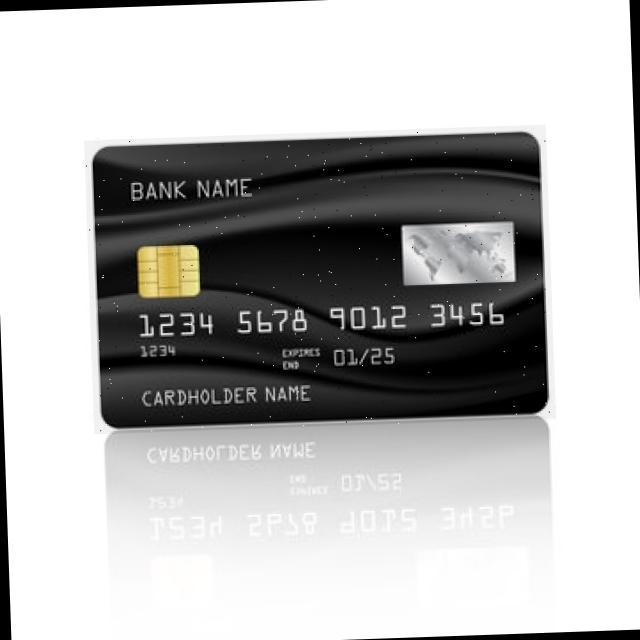payment_card: (87, 128, 549, 428)
